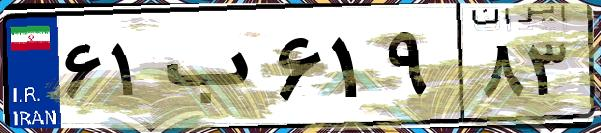1: (330, 28, 385, 110), (110, 28, 158, 98)
3: (525, 38, 570, 115)
6: (270, 28, 330, 110), (57, 26, 110, 100)
8: (475, 38, 525, 113)
9: (385, 28, 445, 110)
ب: (158, 20, 270, 120)
